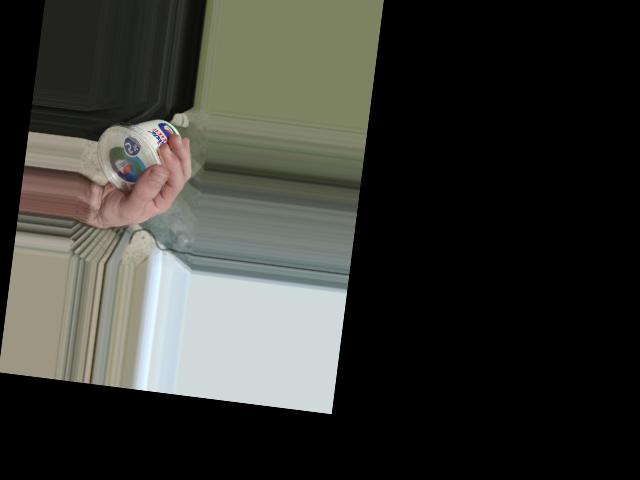cotage: (89, 112, 186, 196)
